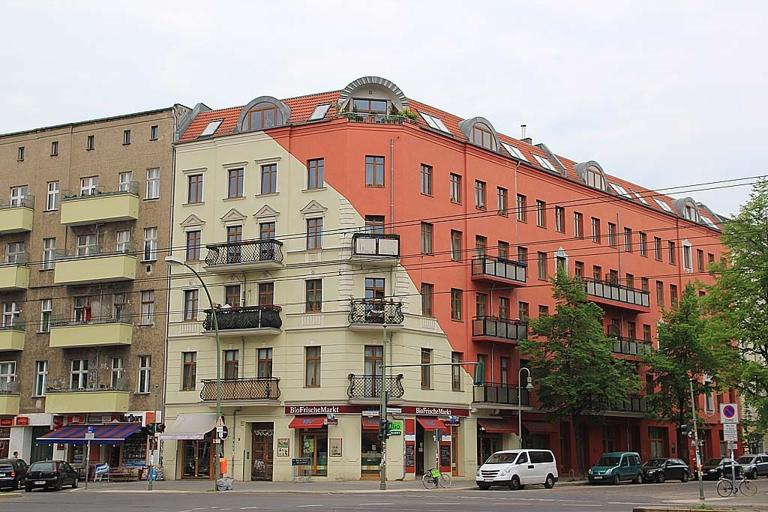non-vehicle: (714, 472, 757, 498), (420, 466, 451, 490)
